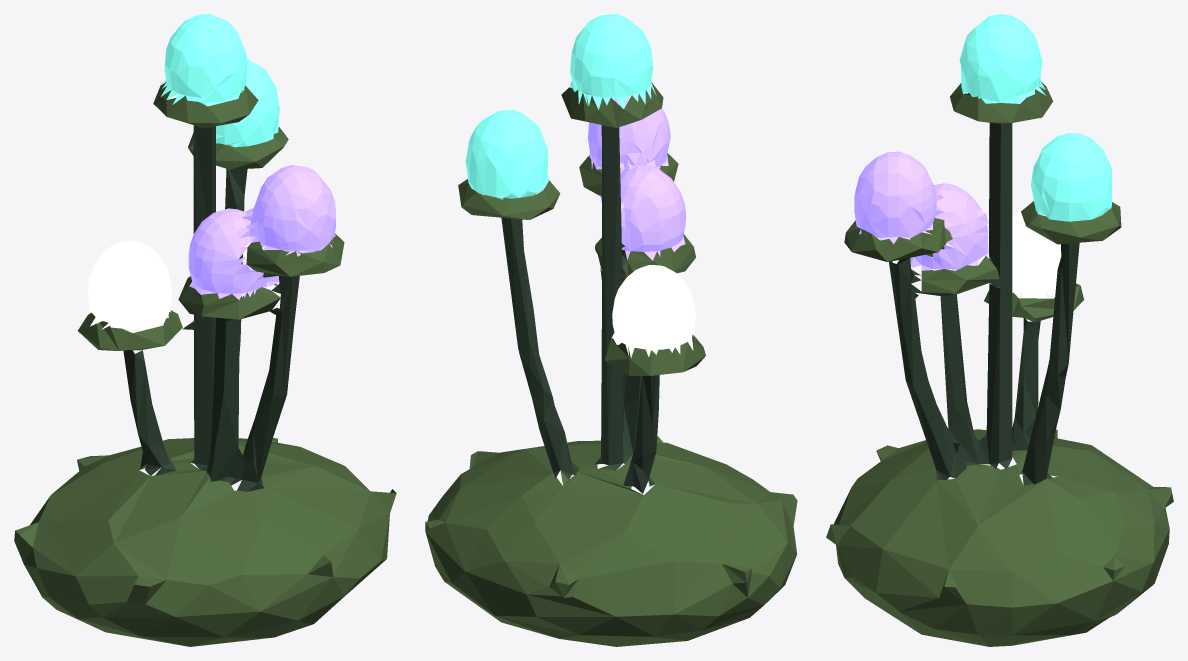
The model's file is glowbloom.glb.
3 renders of one model, left to right at view 1: azimuth 30°, elevation 25°; view 2: azimuth 150°, elevation 25°; view 3: azimuth 270°, elevation 25°, orthographic.
Parts seen in each view (by area): view 1: glowbloom; view 2: glowbloom; view 3: glowbloom.
Boxes of the visible parts, box(x1,y1,x2,y2) form: glowbloom: box(14, 14, 396, 646); glowbloom: box(425, 14, 797, 646); glowbloom: box(826, 14, 1173, 646).
Bounding box in the file's own units: 0.9912 × 1.74 × 0.9201.
